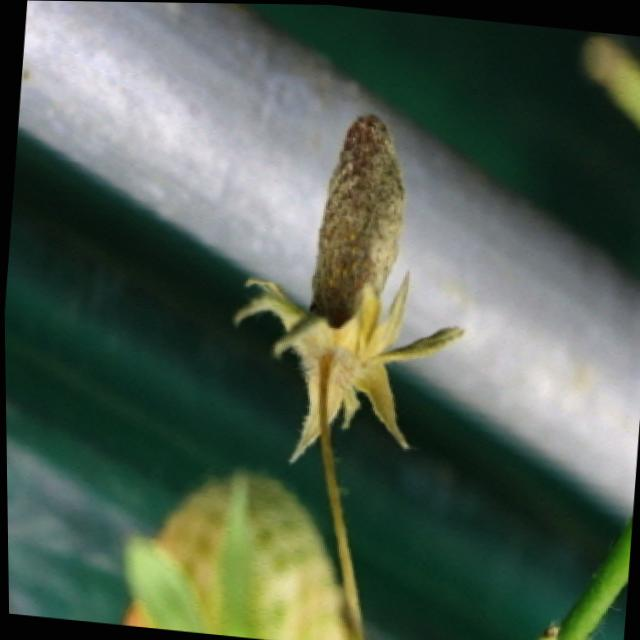Gray Mold: (230, 110, 466, 462)
